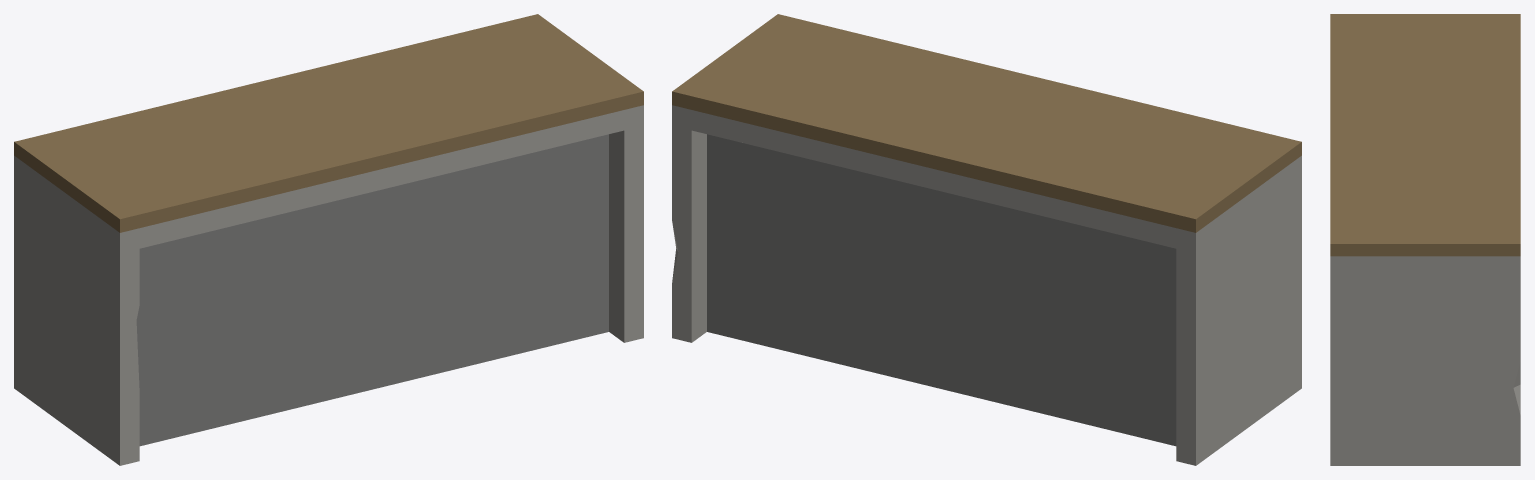
File: SM_Props_Interior_Shop_Electronic_Preset_Desk_Front.fbx
3 renders of one model, left to right at view 1: azimuth 30°, elevation 25°; view 2: azimuth 150°, elevation 25°; view 3: azimuth 270°, elevation 25°, orthographic. The views are drawn at different scales.
Visible parts, largest first — view 1: SM_Props_Interior_Shop_Electronic_Preset_Desk_Front; view 2: SM_Props_Interior_Shop_Electronic_Preset_Desk_Front; view 3: SM_Props_Interior_Shop_Electronic_Preset_Desk_Front.
Part boxes in pixels (x1=…): SM_Props_Interior_Shop_Electronic_Preset_Desk_Front: x1=14, y1=14, x2=643, y2=465; SM_Props_Interior_Shop_Electronic_Preset_Desk_Front: x1=672, y1=14, x2=1301, y2=465; SM_Props_Interior_Shop_Electronic_Preset_Desk_Front: x1=1330, y1=14, x2=1520, y2=465.
Bounding box in the file's own units: 200 × 90 × 70.
